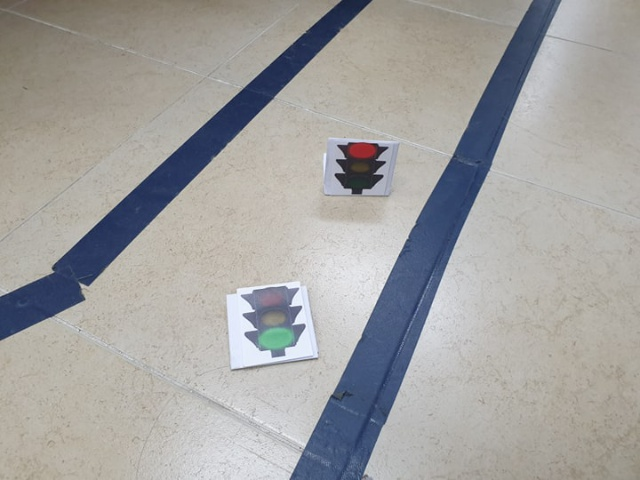Green: (241, 289, 305, 358)
Red: (331, 140, 386, 197)
